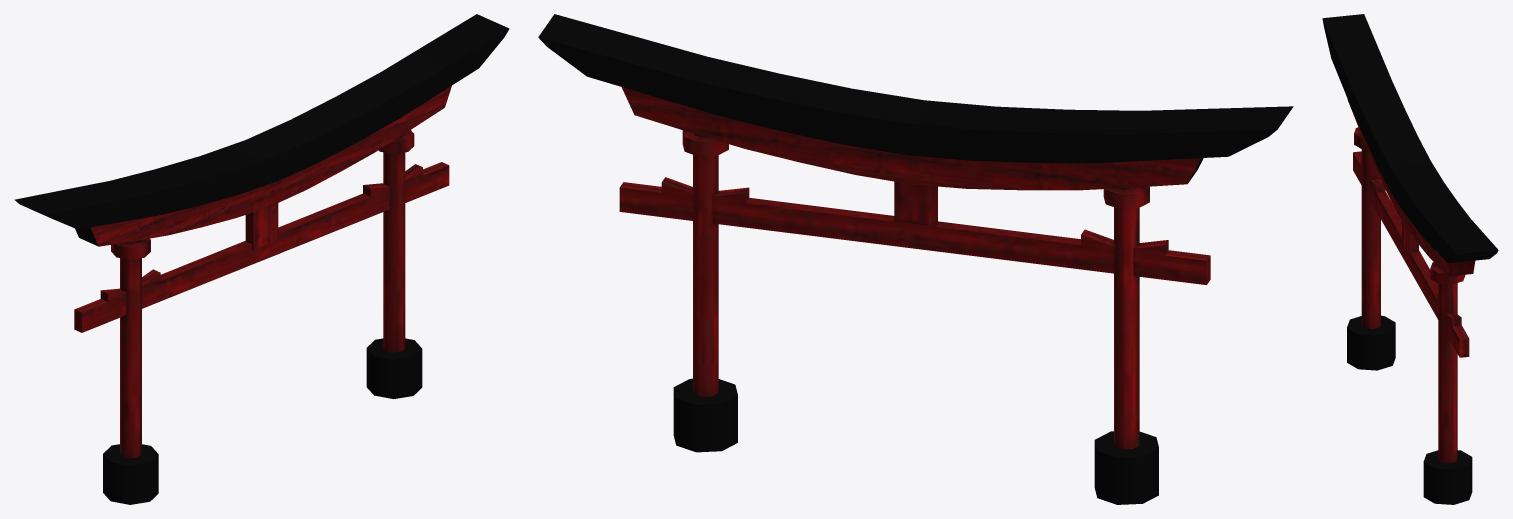
The model's file is Gate02.fbx.
3 views of the same model, side by side, from view 1: azimuth 30°, elevation 25°; view 2: azimuth 150°, elevation 25°; view 3: azimuth 270°, elevation 25° (orthographic). The views are drawn at different scales.
Visible parts, largest first — view 1: Gate02; view 2: Gate02; view 3: Gate02.
Part boxes in pixels (left/top/right/bottom): Gate02: left=14, top=14, right=509, bottom=504; Gate02: left=538, top=14, right=1293, bottom=504; Gate02: left=1322, top=14, right=1498, bottom=504.
Size of the model in its own units: 40.46 by 23.03 by 12.54.
